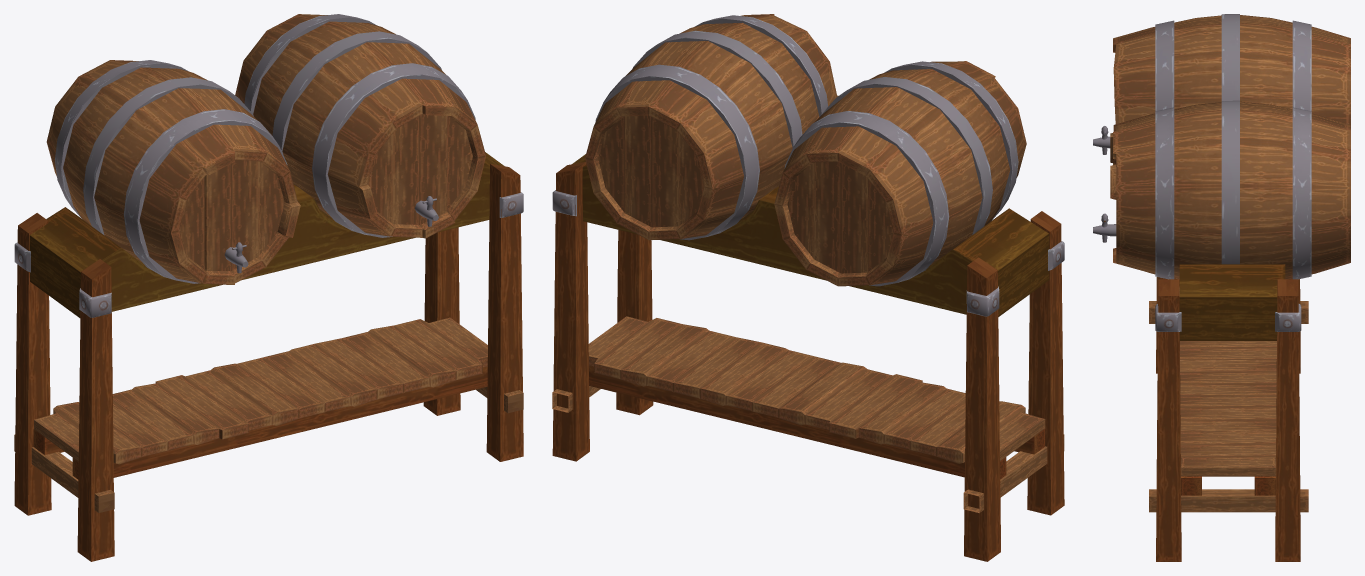
The model's file is Barrel_Holder.gltf.
3 renders of one model, left to right at view 1: azimuth 30°, elevation 25°; view 2: azimuth 150°, elevation 25°; view 3: azimuth 270°, elevation 25°, orthographic. The views are drawn at different scales.
Parts seen in each view (by area): view 1: Barrel_Holder; view 2: Barrel_Holder; view 3: Barrel_Holder.
Boxes of the visible parts, x1,y1,x2,y2 form: Barrel_Holder: [14, 14, 523, 561]; Barrel_Holder: [552, 14, 1064, 561]; Barrel_Holder: [1093, 14, 1350, 561].
Size of the model in its own units: 1.36 by 1.26 by 0.741.
2 materials, 2 textured.
